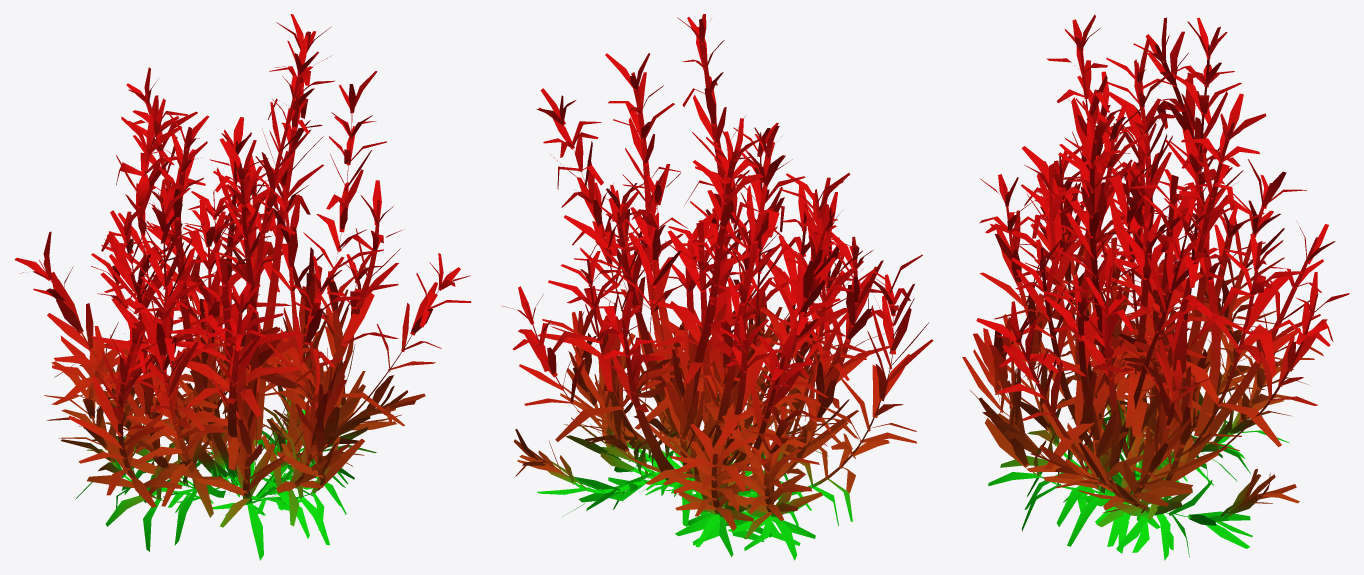
The model's file is Var1_LOD3.fbx.
The picture shows the model from 3 angles, left to right: view 1: azimuth 30°, elevation 25°; view 2: azimuth 150°, elevation 25°; view 3: azimuth 270°, elevation 25°; orthographic projection. The views are drawn at different scales.
Visible parts, largest first — view 1: _d2yw_Var1_LOD3; view 2: _d2yw_Var1_LOD3; view 3: _d2yw_Var1_LOD3.
Boxes of the visible parts, x1=… form: _d2yw_Var1_LOD3: x1=14, y1=14, x2=471, y2=560; _d2yw_Var1_LOD3: x1=501, y1=14, x2=933, y2=560; _d2yw_Var1_LOD3: x1=962, y1=14, x2=1349, y2=560.
Bounding box in the file's own units: 32.06 × 42.15 × 28.65.
